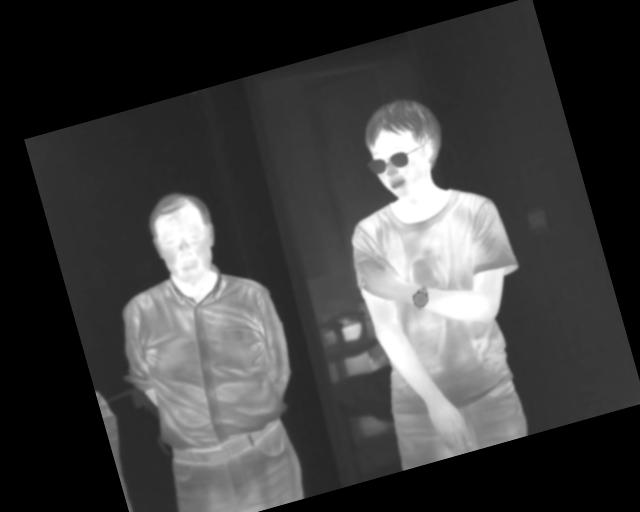face: (354, 89, 456, 206), (138, 182, 227, 292)
